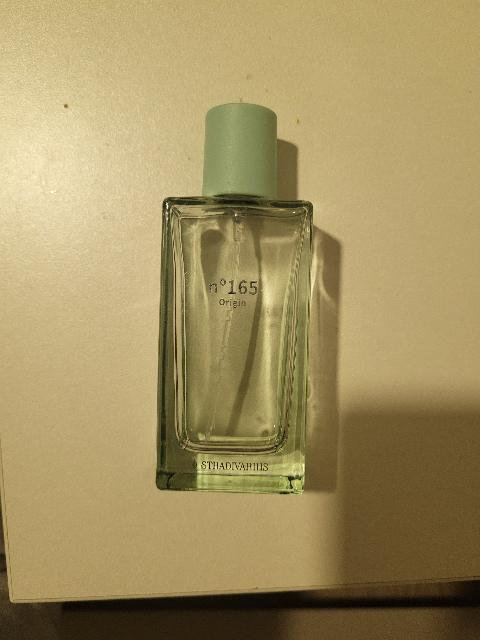Cam: (157, 192, 314, 500)
Plastik: (187, 97, 282, 204)
